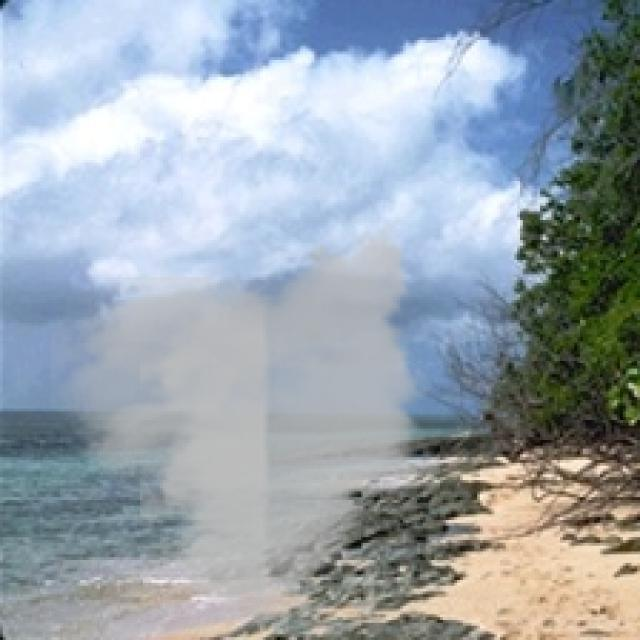Smoke: (52, 212, 434, 637)
